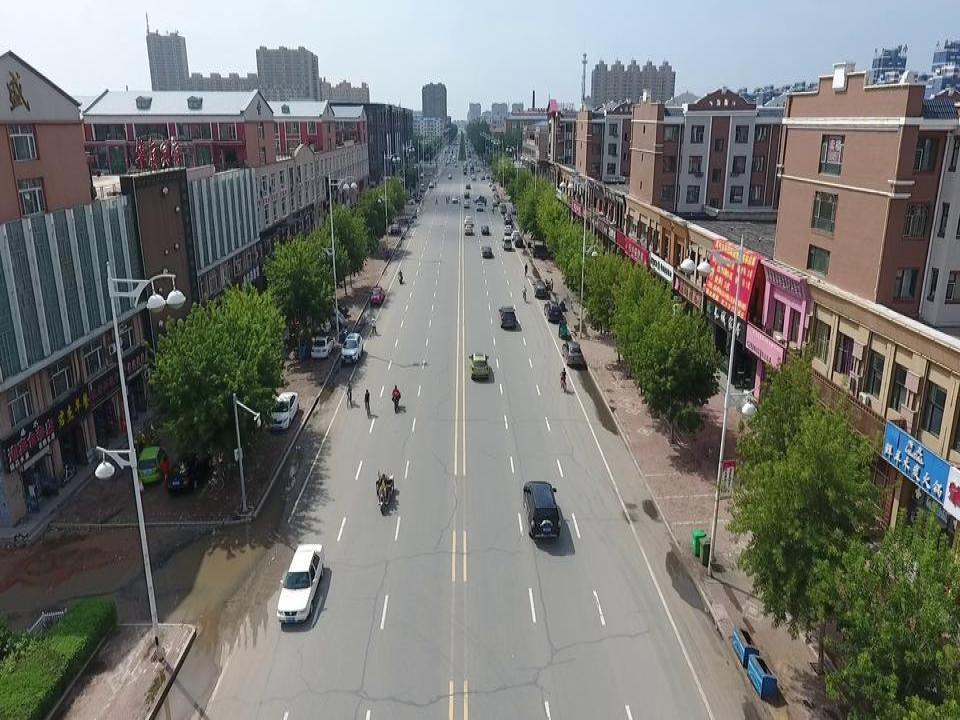car: (271, 526, 331, 630), (518, 470, 577, 550), (166, 438, 200, 498), (265, 385, 301, 439), (130, 433, 166, 487), (462, 347, 496, 385), (337, 330, 369, 366), (308, 292, 349, 315), (491, 302, 517, 334), (561, 339, 588, 368), (308, 332, 334, 361), (542, 297, 562, 323), (530, 277, 550, 300), (368, 284, 385, 303)
van: (300, 301, 344, 327), (291, 307, 332, 332)
